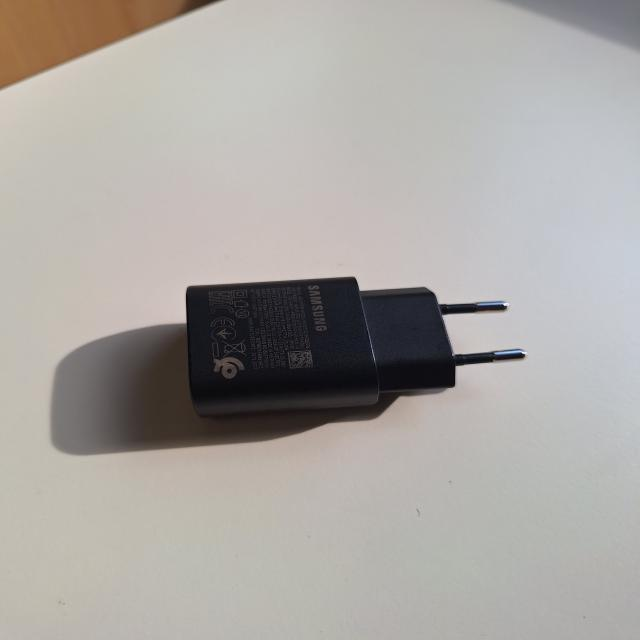Charger: (160, 247, 544, 442)
